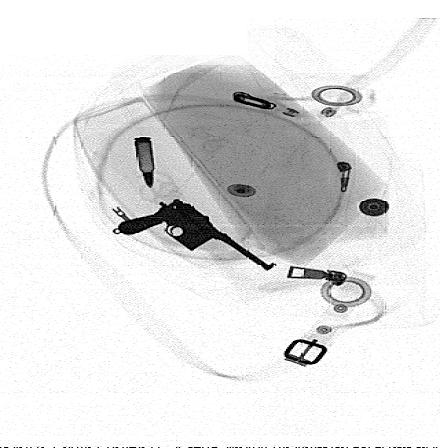Bullet: (133, 137, 156, 189)
Gun: (116, 198, 273, 270)
